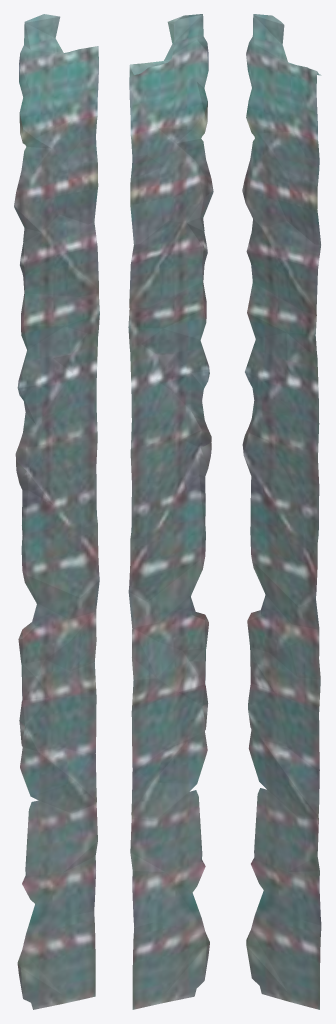
File: Tile_+003_+006_L21_0000400.glb
3 views of the same model, side by side, from view 1: azimuth 30°, elevation 25°; view 2: azimuth 210°, elevation 25°; view 3: azimuth 330°, elevation 25° (orthographic).
Parts seen in each view (by area): view 1: rtc; view 2: rtc; view 3: rtc.
Part boxes in pixels (box(x1,y1,x2,y2)): rtc: box(14, 14, 99, 1009); rtc: box(128, 14, 213, 1009); rtc: box(242, 14, 321, 1009).
Size of the model in its own units: 1.84 by 21.81 by 0.2418.
Materials: 1 (1 with a texture image).
